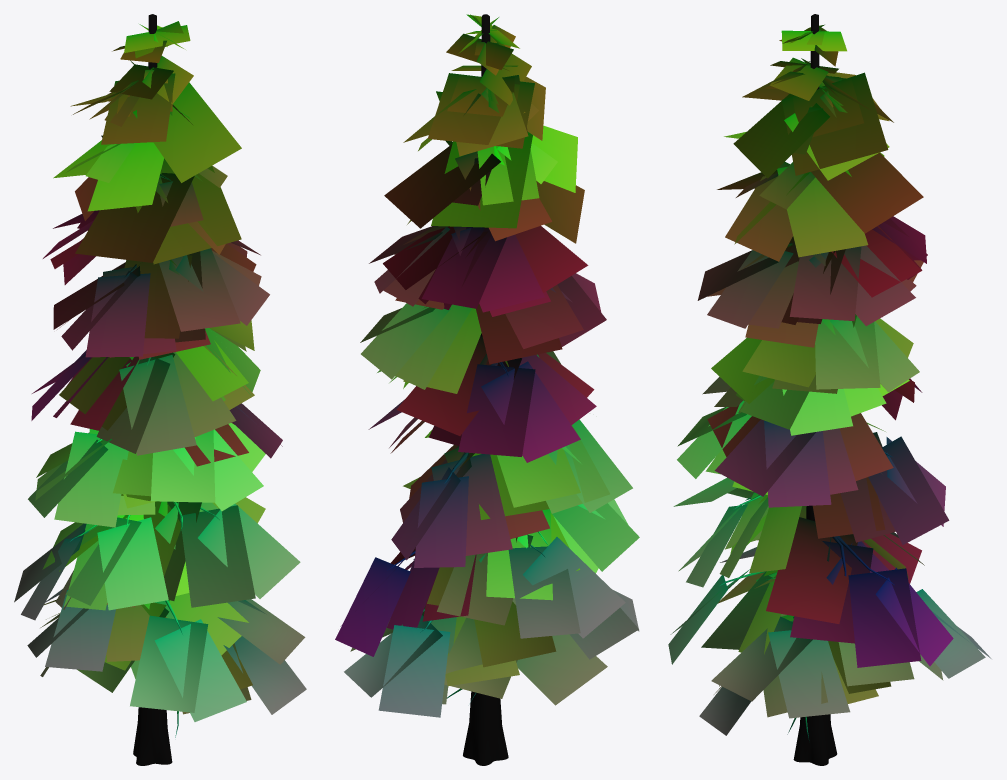
The model's file is M_Pine_4_6.fbx.
3 renders of one model, left to right at view 1: azimuth 30°, elevation 25°; view 2: azimuth 150°, elevation 25°; view 3: azimuth 270°, elevation 25°, orthographic.
Parts seen in each view (by area): view 1: Tree_6; view 2: Tree_6; view 3: Tree_6.
Part boxes in pixels (x1,y1,x2,y2): Tree_6: [14, 14, 306, 765]; Tree_6: [335, 14, 639, 765]; Tree_6: [668, 14, 991, 765].
Size of the model in its own units: 1122 by 3008 by 1190.
